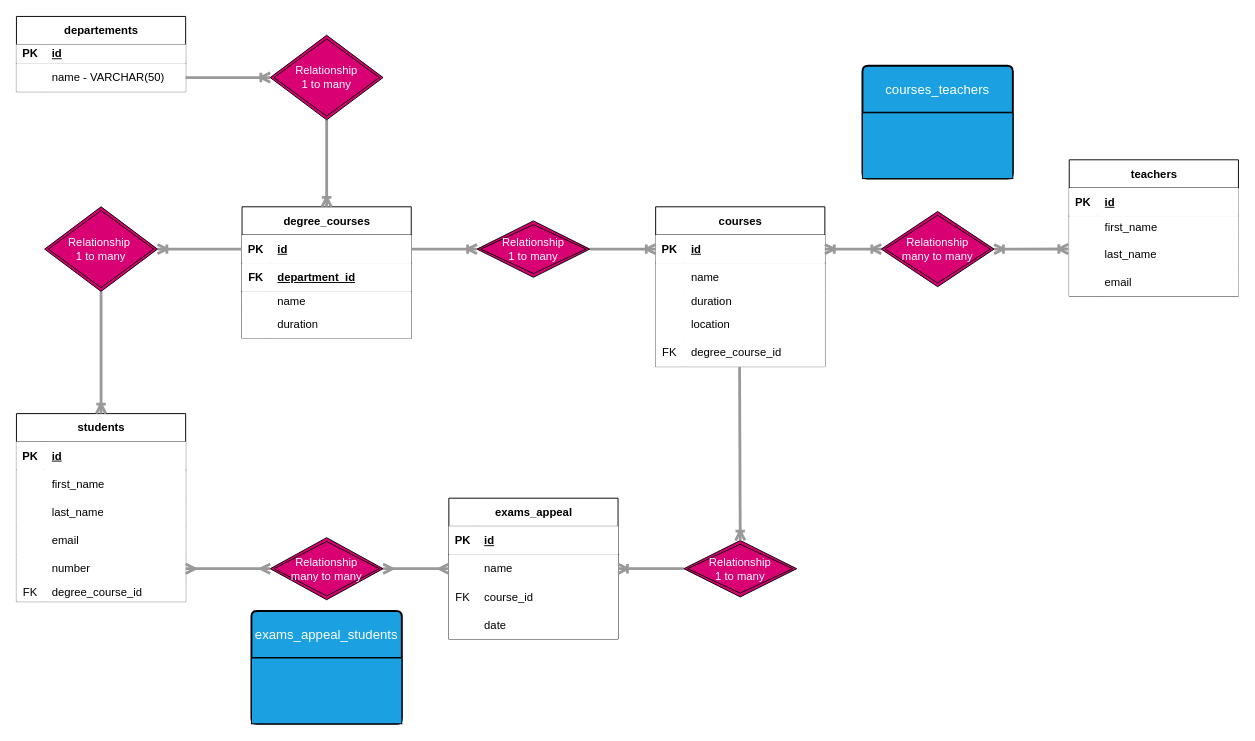
This 1255x741 diagram has some shape labels left out. The shapes that lost their labels are listed below. From the top down, each one's centre as x and y in pixels, then its label:
point 937,145: id teachers_id courses_id
point 326,690: id exams_appeal_id students_id vote
